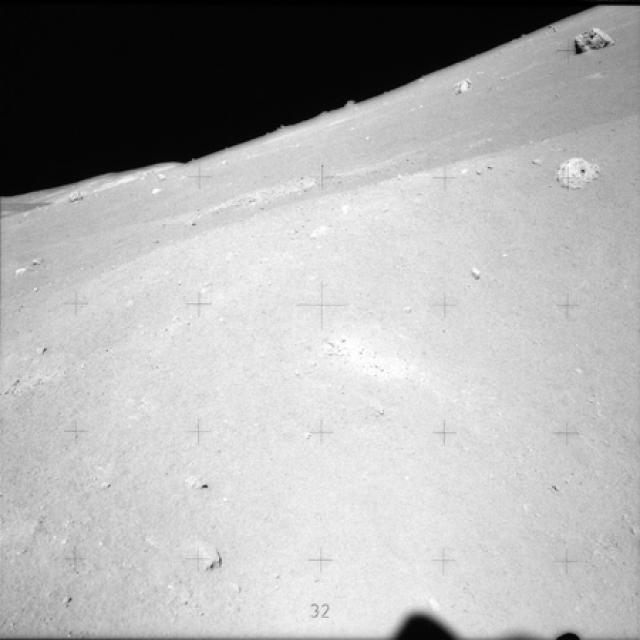rock: (552, 156, 604, 192), (570, 23, 617, 55), (449, 77, 477, 99)
